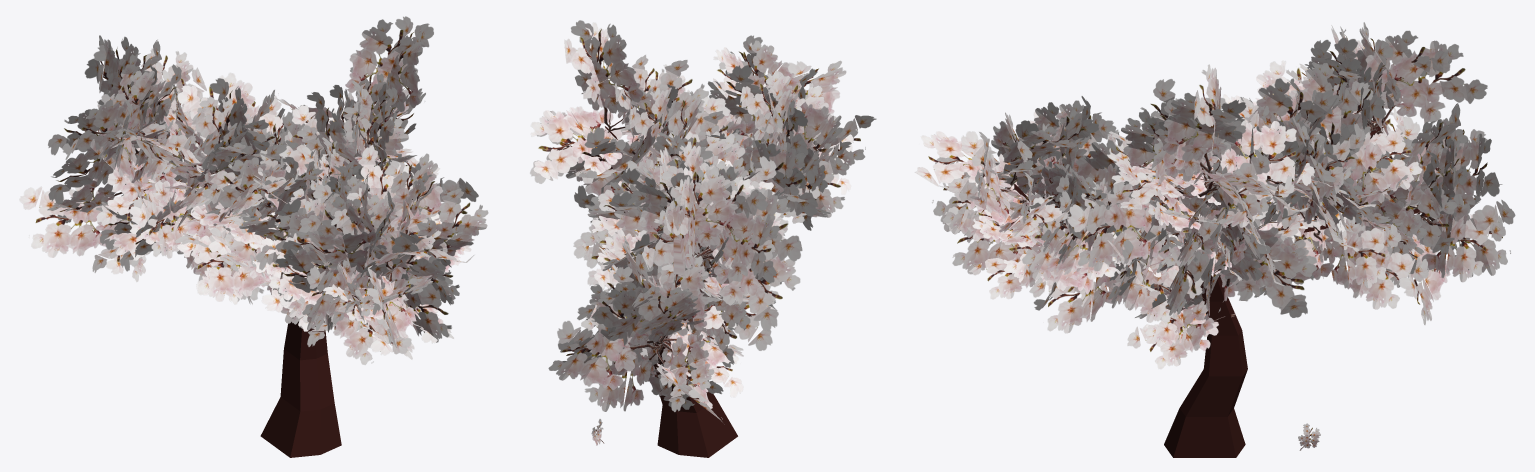
Rendered from asset.gltf.
3 renders of one model, left to right at view 1: azimuth 30°, elevation 25°; view 2: azimuth 150°, elevation 25°; view 3: azimuth 270°, elevation 25°, orthographic. The views are drawn at different scales.
Size of the model in its own units: 12.87 by 15.05 by 19.44.
2 materials, 1 textured.
